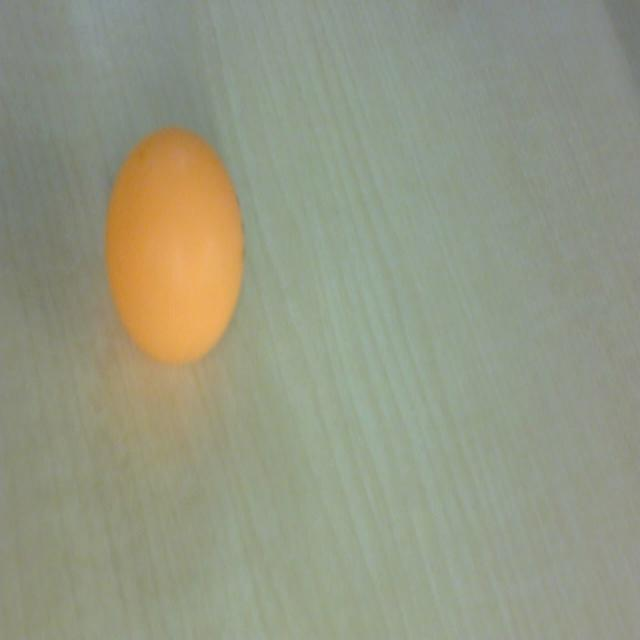ball: (104, 128, 248, 372)
